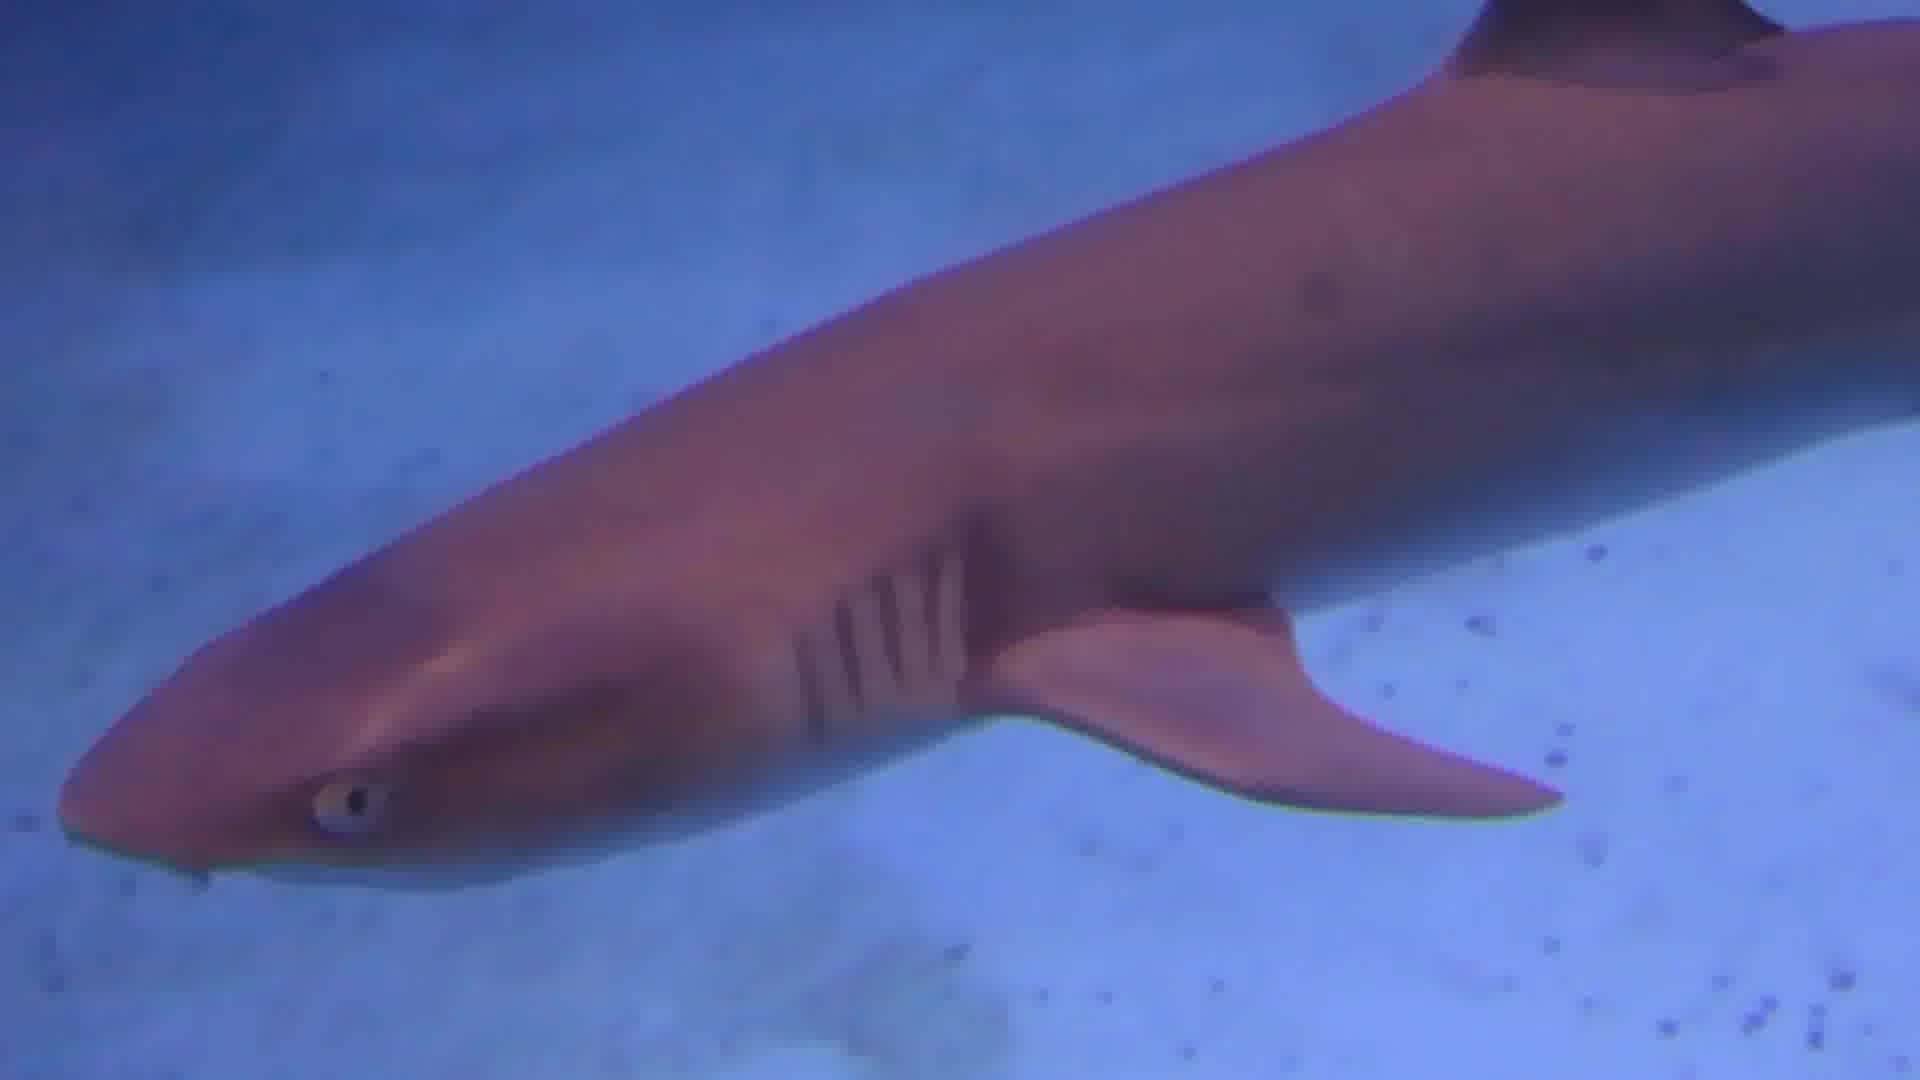Triaenodon obesus: (32, 1, 1912, 953)
